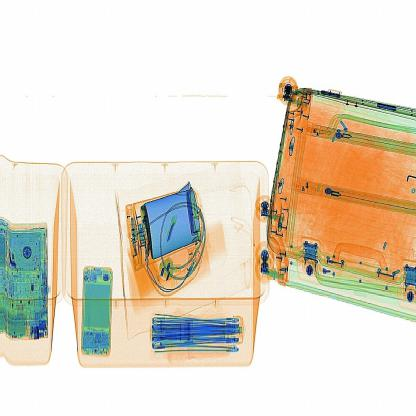pliers: (160, 211, 188, 253)
